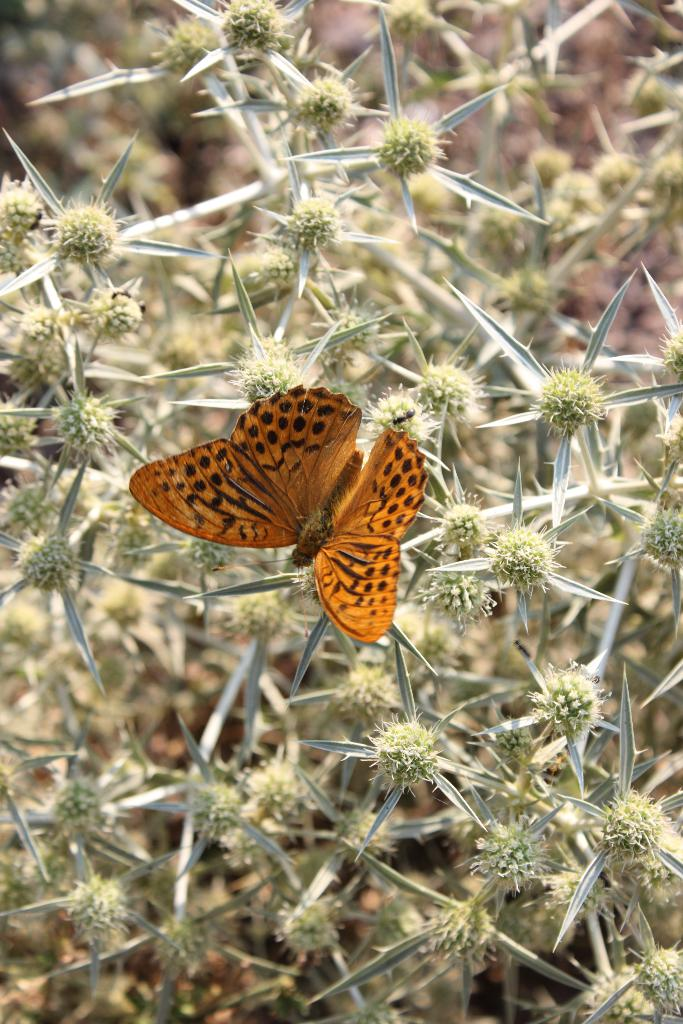Butterfly: (126, 384, 419, 644)
